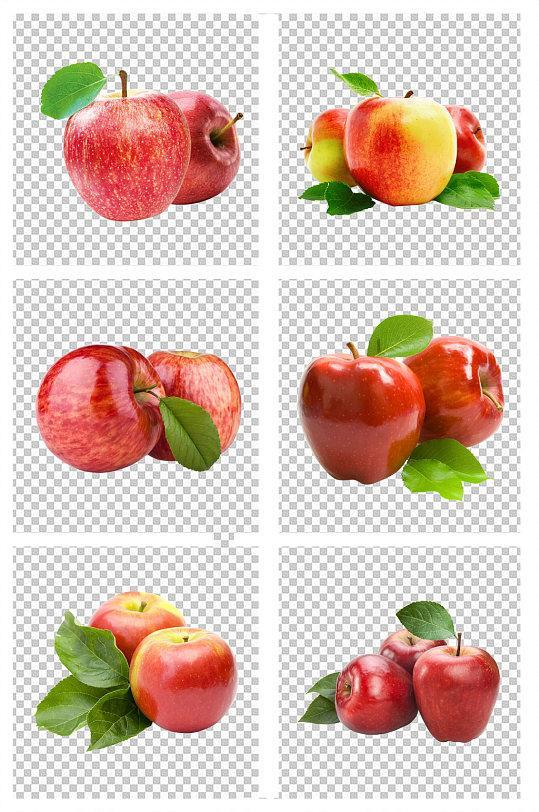apple: (59, 91, 191, 224), (297, 350, 425, 485), (33, 345, 164, 475), (344, 96, 458, 208), (128, 623, 237, 734), (140, 349, 241, 467), (402, 336, 503, 451), (408, 645, 501, 744), (166, 93, 242, 208), (87, 593, 184, 661), (336, 656, 415, 737), (302, 110, 358, 190), (379, 627, 450, 672), (443, 106, 487, 177)
